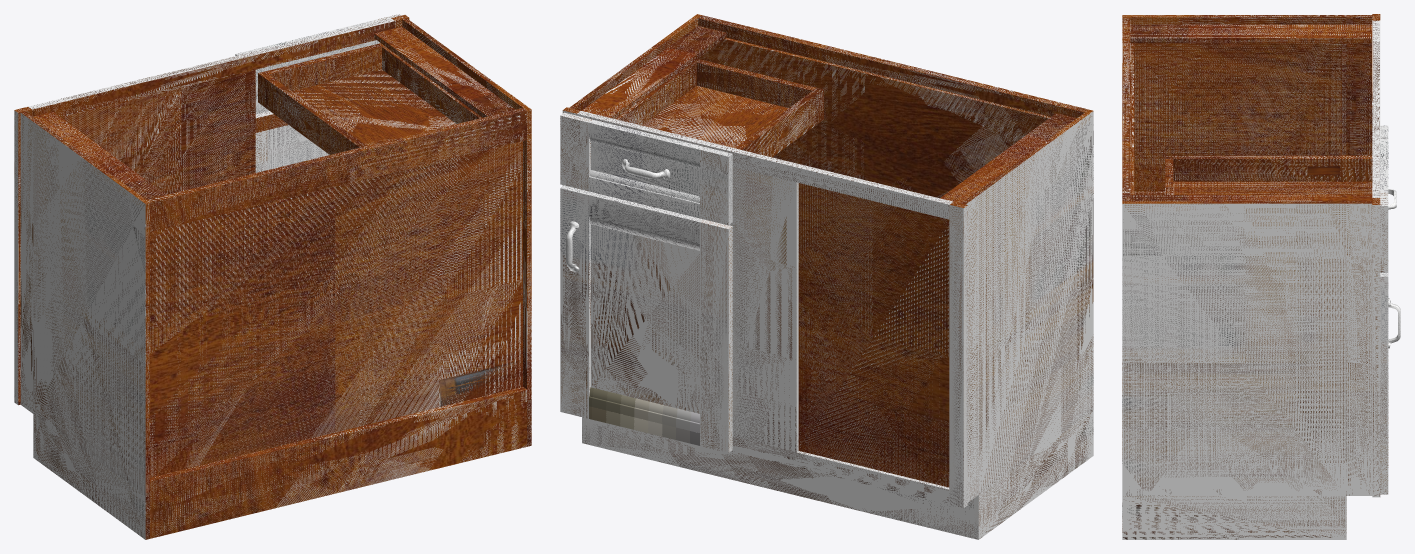
The picture shows the model from 3 angles, left to right: view 1: azimuth 30°, elevation 25°; view 2: azimuth 150°, elevation 25°; view 3: azimuth 270°, elevation 25°; orthographic projection. The views are drawn at different scales.
Visible parts, largest first — view 1: mesh5_mesh5-geometry, mesh8_mesh8-geometry, mesh14_mesh14-geometry, mesh4_mesh4-geometry, mesh19_mesh19-geometry, mesh18_mesh18-geometry, mesh23_mesh23-geometry, mesh6_mesh6-geometry, mesh20_mesh20-geometry, mesh9_mesh9-geometry, mesh7_mesh7-geometry, mesh11_mesh11-geometry (+8 smaller); view 2: mesh18_mesh18-geometry, mesh8_mesh8-geometry, mesh5_mesh5-geometry, mesh19_mesh19-geometry, mesh36_mesh36-geometry, mesh15_mesh15-geometry, mesh6_mesh6-geometry, mesh33_mesh33-geometry, mesh32_mesh32-geometry, mesh4_mesh4-geometry, mesh3_mesh3-geometry, mesh9_mesh9-geometry (+14 smaller); view 3: mesh11_mesh11-geometry, mesh8_mesh8-geometry, mesh12_mesh12-geometry, mesh10_mesh10-geometry, mesh20_mesh20-geometry, mesh17_mesh17-geometry, mesh7_mesh7-geometry, mesh23_mesh23-geometry, mesh3_mesh3-geometry, mesh32_mesh32-geometry, mesh16_mesh16-geometry, mesh4_mesh4-geometry (+4 smaller).
Part boxes in pixels (x1=…): mesh5_mesh5-geometry: x1=150, y1=141, x2=522, y2=477; mesh8_mesh8-geometry: x1=33, y1=120, x2=149, y2=495; mesh14_mesh14-geometry: x1=150, y1=387, x2=526, y2=538; mesh4_mesh4-geometry: x1=146, y1=108, x2=526, y2=231; mesh19_mesh19-geometry: x1=181, y1=70, x2=255, y2=190; mesh18_mesh18-geometry: x1=61, y1=88, x2=181, y2=194; mesh23_mesh23-geometry: x1=292, y1=69, x2=455, y2=145; mesh6_mesh6-geometry: x1=28, y1=18, x2=395, y2=117; mesh20_mesh20-geometry: x1=258, y1=43, x2=482, y2=154; mesh9_mesh9-geometry: x1=33, y1=414, x2=149, y2=539; mesh7_mesh7-geometry: x1=20, y1=111, x2=37, y2=413; mesh11_mesh11-geometry: x1=415, y1=27, x2=531, y2=402; mesh18_mesh18-geometry: x1=798, y1=183, x2=949, y2=487; mesh8_mesh8-geometry: x1=974, y1=109, x2=1093, y2=494; mesh5_mesh5-geometry: x1=698, y1=37, x2=1050, y2=198; mesh19_mesh19-geometry: x1=729, y1=167, x2=798, y2=452; mesh36_mesh36-geometry: x1=591, y1=224, x2=699, y2=413; mesh15_mesh15-geometry: x1=587, y1=418, x2=973, y2=538; mesh6_mesh6-geometry: x1=577, y1=111, x2=952, y2=504; mesh33_mesh33-geometry: x1=700, y1=219, x2=732, y2=452; mesh32_mesh32-geometry: x1=560, y1=185, x2=591, y2=418; mesh4_mesh4-geometry: x1=698, y1=15, x2=1088, y2=117; mesh3_mesh3-geometry: x1=562, y1=107, x2=967, y2=507; mesh9_mesh9-geometry: x1=974, y1=411, x2=1093, y2=539; mesh11_mesh11-geometry: x1=1122, y1=201, x2=1346, y2=495; mesh8_mesh8-geometry: x1=1122, y1=15, x2=1346, y2=191; mesh12_mesh12-geometry: x1=1122, y1=496, x2=1346, y2=539; mesh10_mesh10-geometry: x1=1346, y1=201, x2=1372, y2=495; mesh20_mesh20-geometry: x1=1165, y1=155, x2=1372, y2=181; mesh17_mesh17-geometry: x1=1130, y1=24, x2=1372, y2=43; mesh7_mesh7-geometry: x1=1346, y1=15, x2=1372, y2=155; mesh23_mesh23-geometry: x1=1173, y1=181, x2=1372, y2=194; mesh3_mesh3-geometry: x1=1372, y1=14, x2=1380, y2=497; mesh32_mesh32-geometry: x1=1380, y1=273, x2=1388, y2=494; mesh16_mesh16-geometry: x1=1130, y1=195, x2=1372, y2=201; mesh4_mesh4-geometry: x1=1122, y1=17, x2=1130, y2=201.
Bounding box in the file's own units: 0.6975 × 0.573 × 0.4303.
